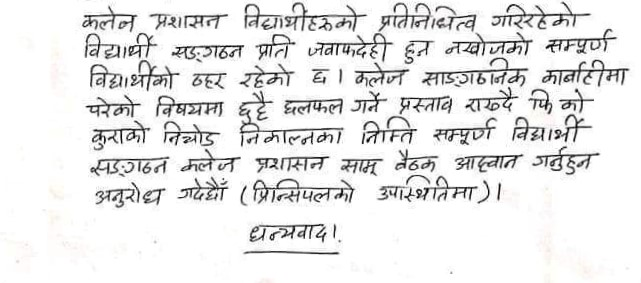text: (241, 2, 360, 32), (249, 175, 357, 207), (375, 175, 478, 204), (376, 3, 477, 32), (235, 122, 347, 147), (539, 59, 633, 88), (418, 63, 529, 87), (86, 63, 177, 92), (488, 4, 580, 32), (305, 31, 389, 61), (508, 115, 589, 145), (442, 32, 533, 57), (94, 180, 166, 211), (81, 31, 157, 59), (429, 116, 499, 146), (85, 155, 170, 179), (247, 222, 331, 246), (89, 119, 148, 153), (529, 146, 594, 176), (543, 30, 615, 56), (150, 95, 225, 119), (169, 40, 243, 63), (250, 155, 327, 177), (150, 12, 230, 33), (178, 149, 240, 176), (526, 88, 590, 114), (79, 4, 136, 33), (359, 117, 415, 146), (157, 121, 217, 148), (351, 64, 407, 91), (460, 89, 519, 114), (393, 93, 456, 116), (176, 177, 229, 204), (452, 153, 521, 173), (279, 96, 346, 116), (238, 66, 293, 90), (392, 147, 440, 174), (84, 95, 139, 118), (252, 33, 294, 62), (236, 88, 269, 124), (185, 70, 232, 92), (401, 39, 434, 67), (339, 157, 380, 178), (351, 88, 382, 115), (308, 66, 331, 86)
